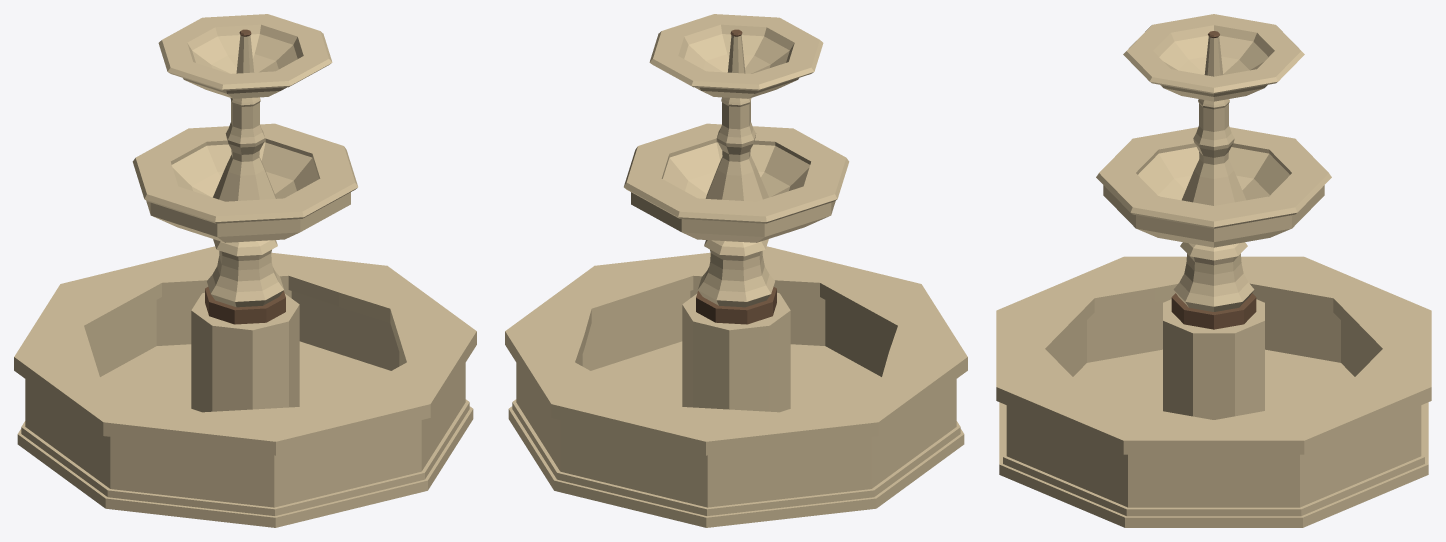
The model's file is Fountain.glb.
The picture shows the model from 3 angles, left to right: view 1: azimuth 30°, elevation 25°; view 2: azimuth 150°, elevation 25°; view 3: azimuth 270°, elevation 25°; orthographic projection.
Visible parts, largest first — view 1: Cylinder, Cylinder.004, Cylinder.005, Cylinder.002, Cylinder.001, Cylinder.003; view 2: Cylinder, Cylinder.004, Cylinder.005, Cylinder.002, Cylinder.001, Cylinder.003; view 3: Cylinder, Cylinder.004, Cylinder.005, Cylinder.002, Cylinder.001, Cylinder.003.
Part boxes in pixels (left/top/right/bottom): Cylinder: left=14, top=246, right=476, bottom=527; Cylinder.004: left=132, top=97, right=357, bottom=256; Cylinder.005: left=158, top=14, right=332, bottom=98; Cylinder.002: left=191, top=292, right=299, bottom=412; Cylinder.001: left=207, top=249, right=283, bottom=307; Cylinder.003: left=205, top=286, right=285, bottom=324; Cylinder: left=505, top=246, right=967, bottom=527; Cylinder.004: left=624, top=97, right=849, bottom=256; Cylinder.005: left=649, top=14, right=823, bottom=98; Cylinder.002: left=682, top=292, right=790, bottom=412; Cylinder.001: left=698, top=249, right=774, bottom=307; Cylinder.003: left=696, top=286, right=776, bottom=324; Cylinder: left=996, top=256, right=1431, bottom=527; Cylinder.004: left=1096, top=99, right=1331, bottom=260; Cylinder.005: left=1123, top=14, right=1304, bottom=101; Cylinder.002: left=1163, top=299, right=1264, bottom=419; Cylinder.001: left=1173, top=254, right=1254, bottom=311; Cylinder.003: left=1171, top=293, right=1256, bottom=329.
Size of the model in its own units: 5.67 by 5.81 by 5.67.
Materials: 6 (6 with a texture image).
